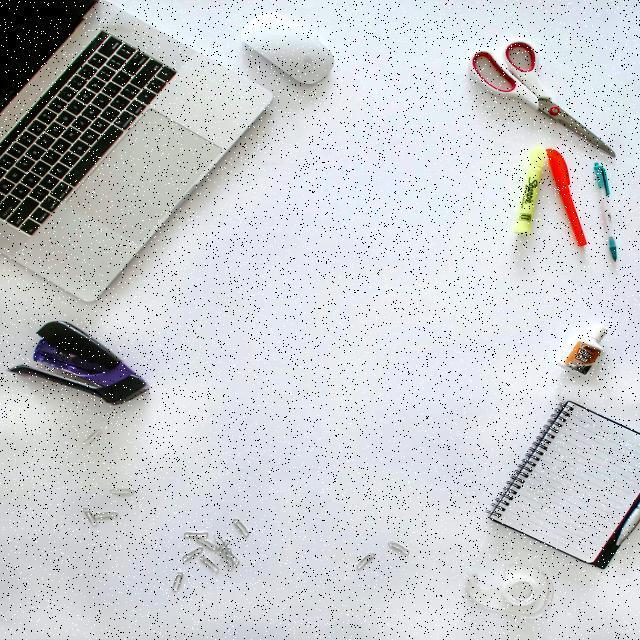scissors: (468, 31, 620, 160)
